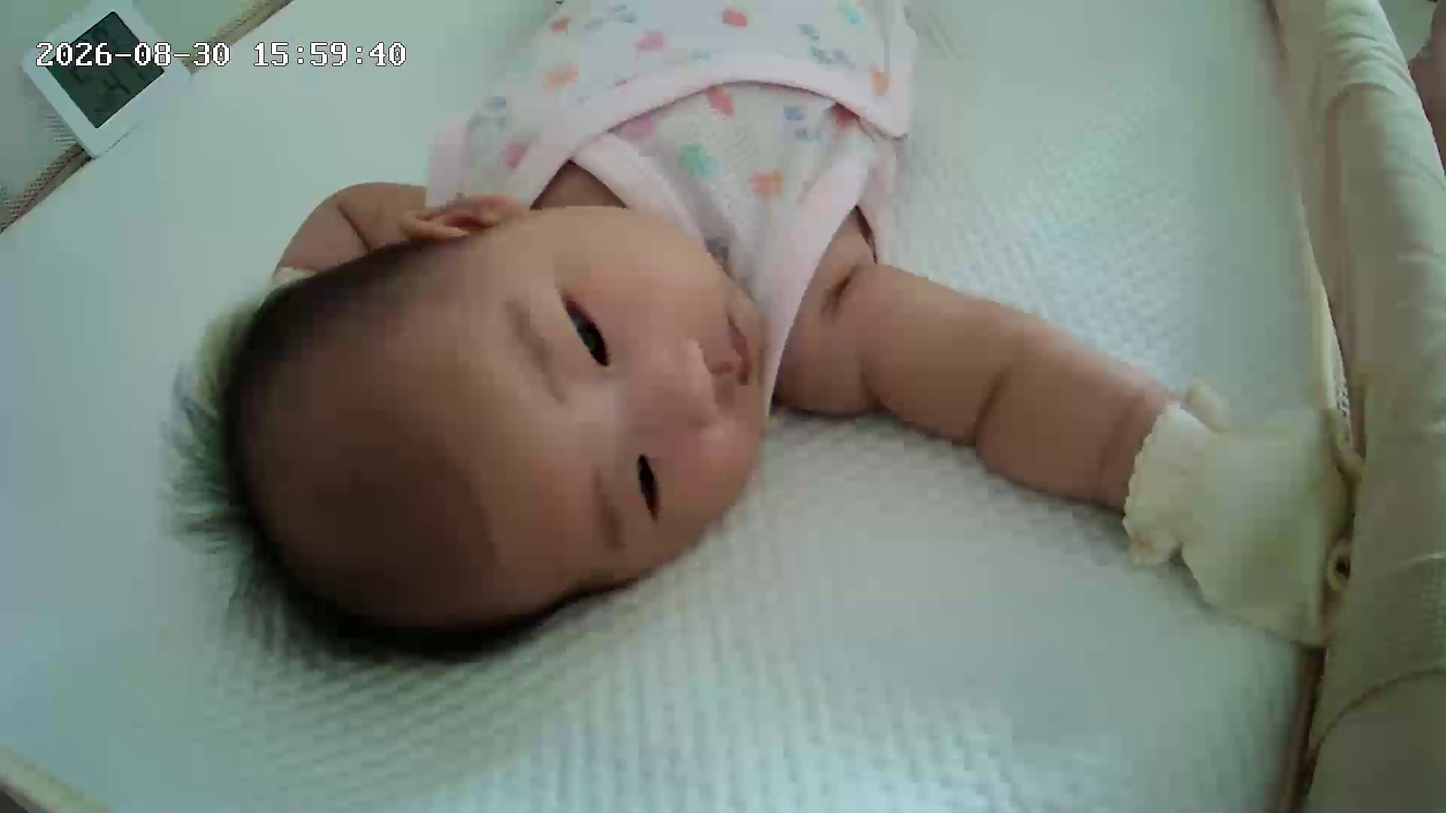baby: (606, 0, 1437, 810), (177, 2, 1139, 675)
baby_face: (185, 191, 789, 664)
